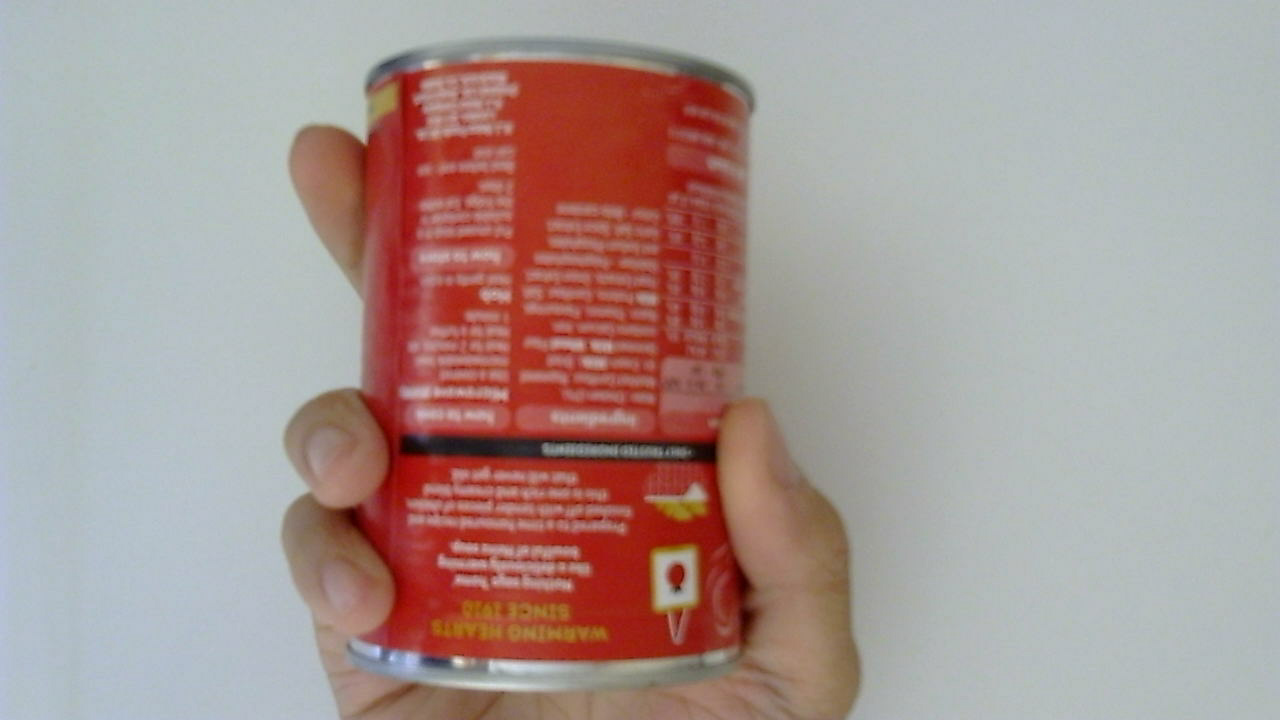Metal Tin: (350, 37, 764, 697)
